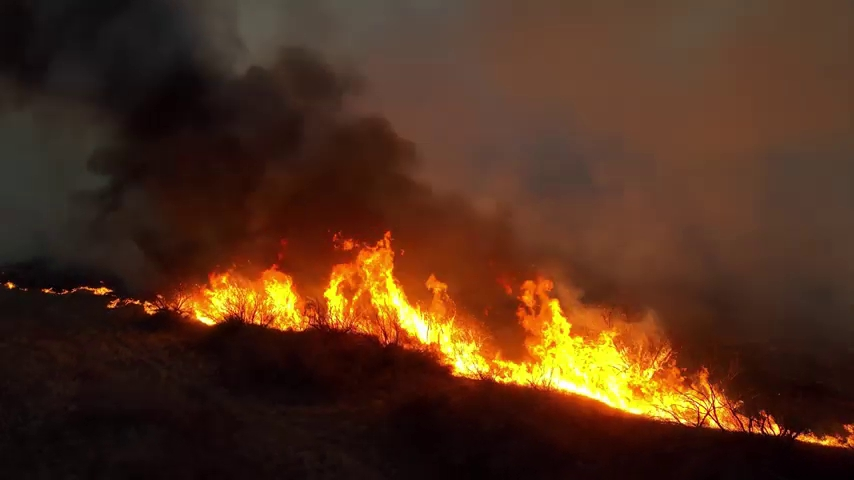forest_fire: (41, 231, 853, 446), (4, 281, 15, 287)
